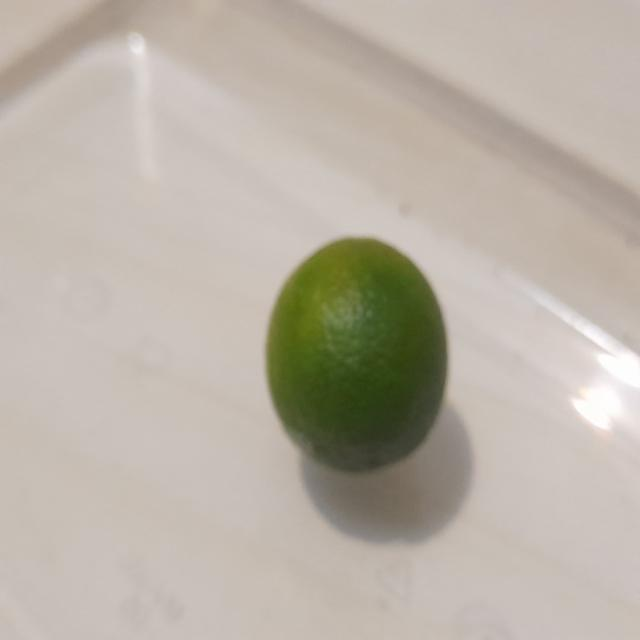heathy: (261, 231, 457, 479)
